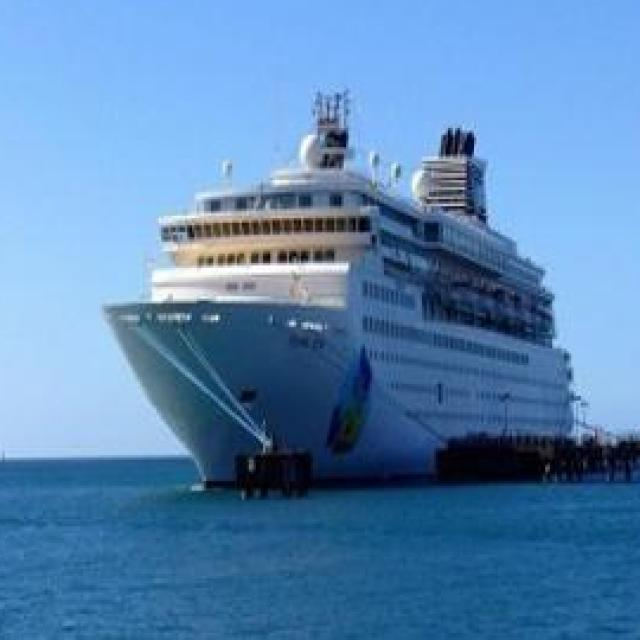passenger ship: (105, 99, 581, 480)
